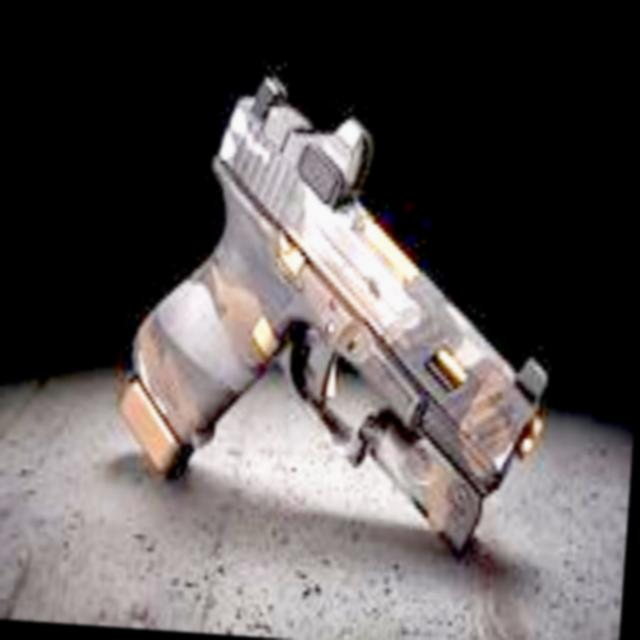semi automatic: (90, 47, 590, 612)
